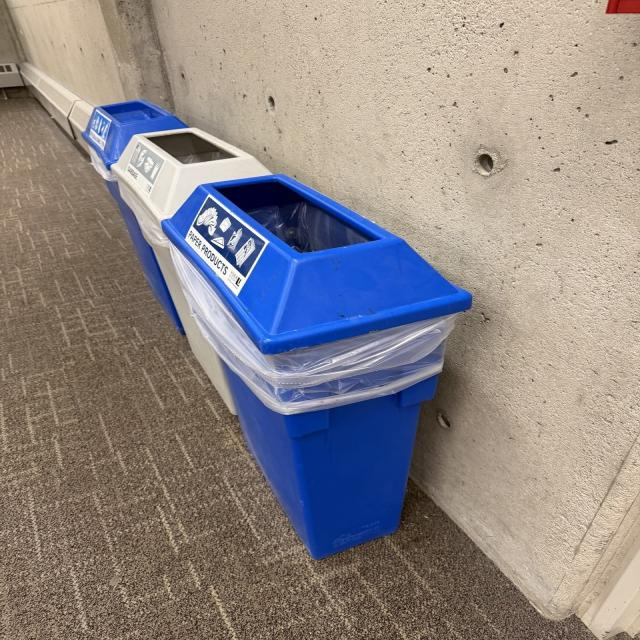Dustbin: (85, 103, 470, 561)
